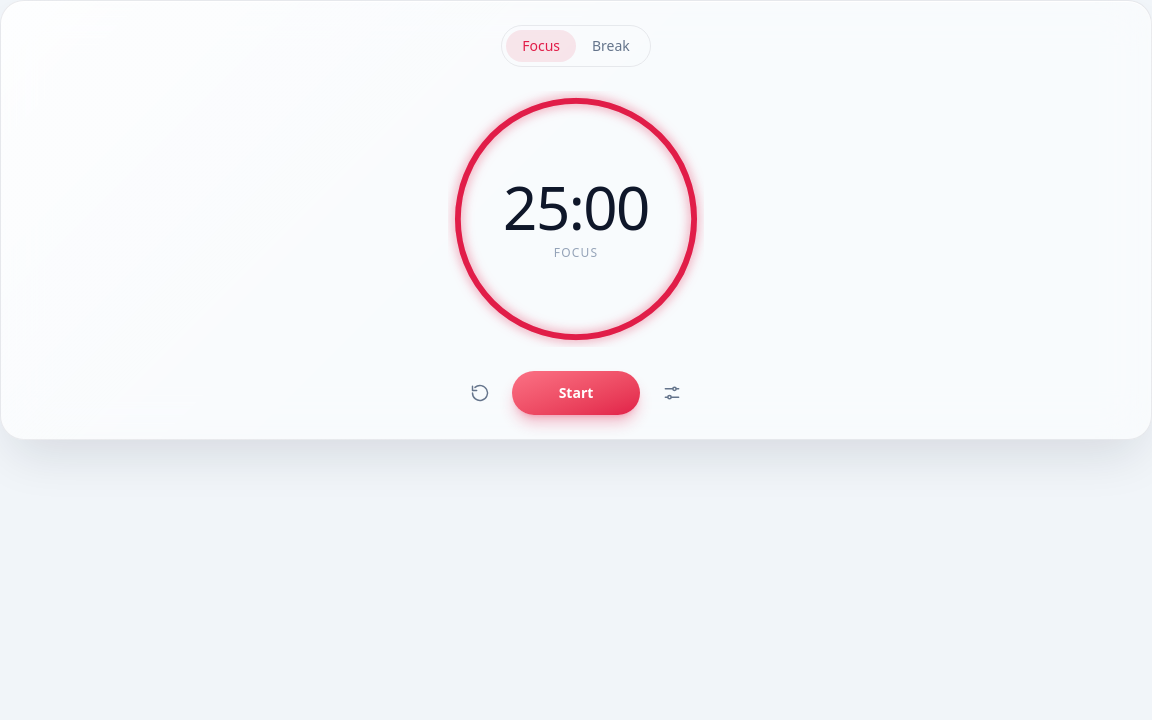
Test: PomodoroTimer › applies and persists custom durations, clamped to the allowed range
Click the button named "Timer settings".
click(672, 393)  # box left=652, top=373, right=692, bottom=413
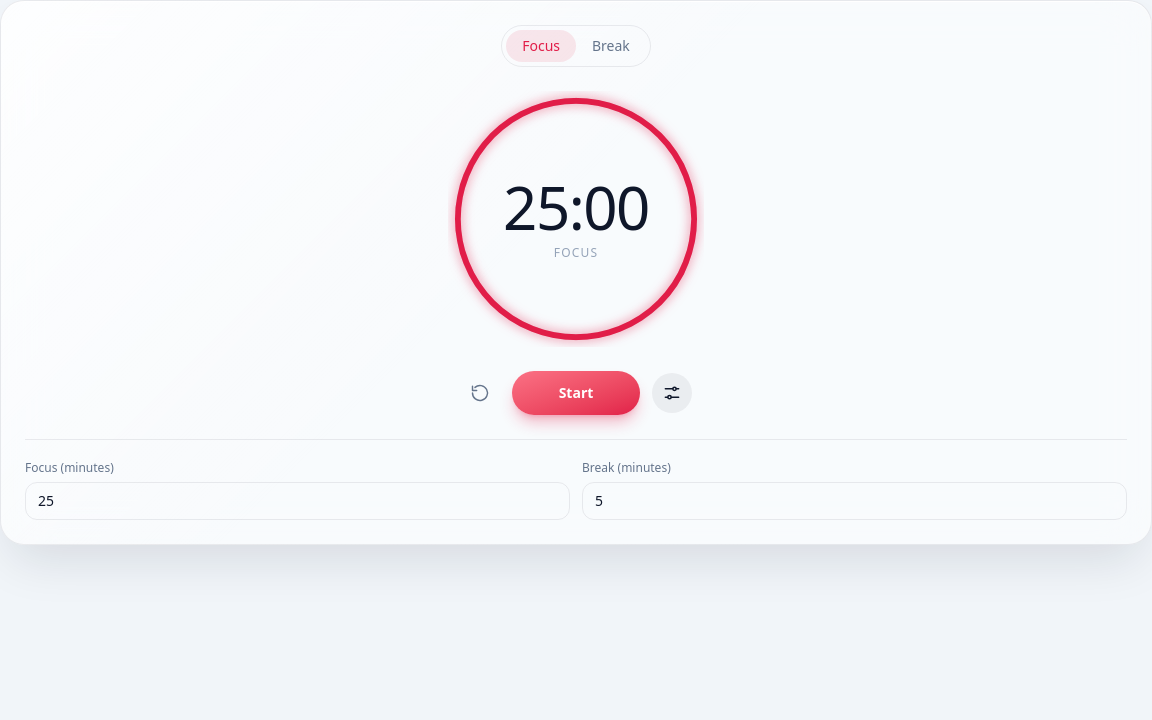
Check: the button named "Timer settings" is expanded, box left=652, top=373, right=692, bottom=413
Replace the text in the number field labelled "Focus (minutes)" with "10" at (298, 501), box left=25, top=482, right=570, bottom=520
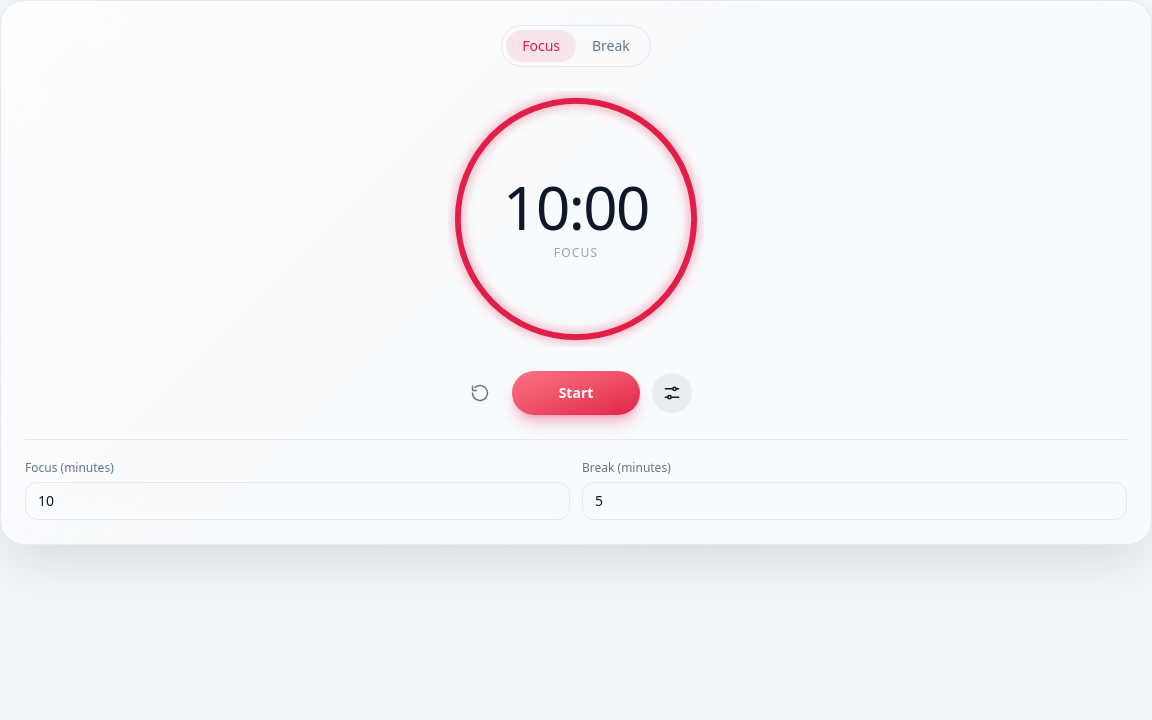
Replace the text in the number field labelled "Focus (minutes)" with "0" at (298, 501), box left=25, top=482, right=570, bottom=520
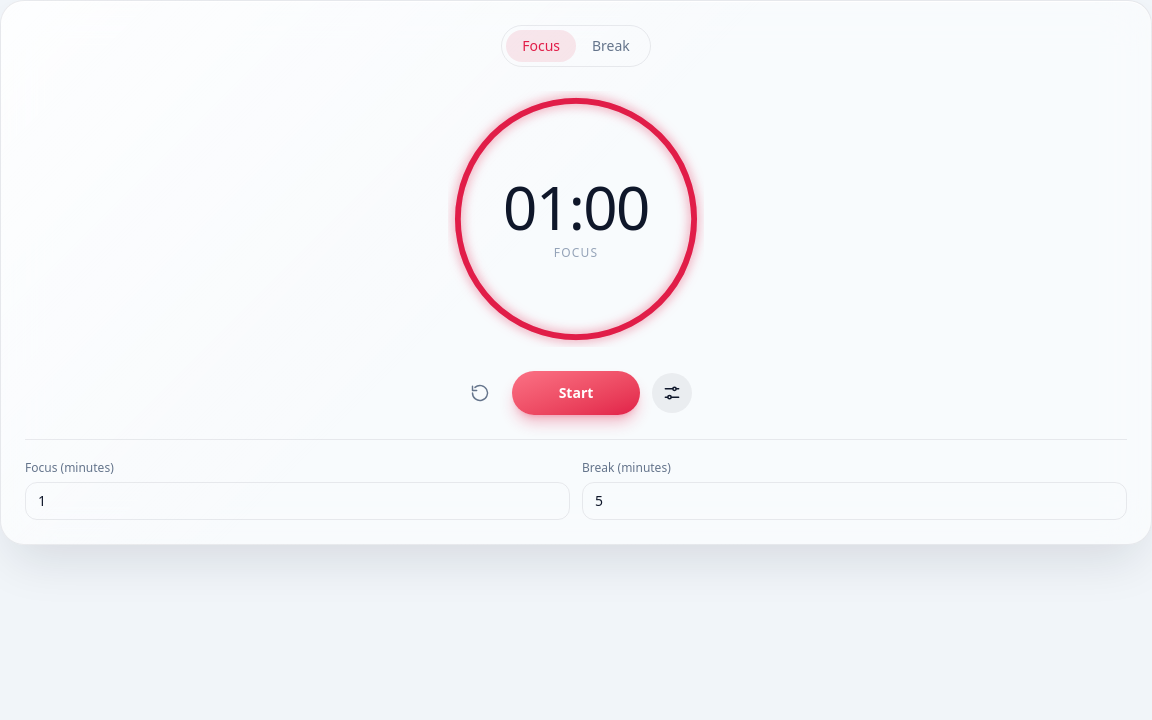
Check: the number field labelled "Focus (minutes)" holds "1", box left=25, top=482, right=570, bottom=520
